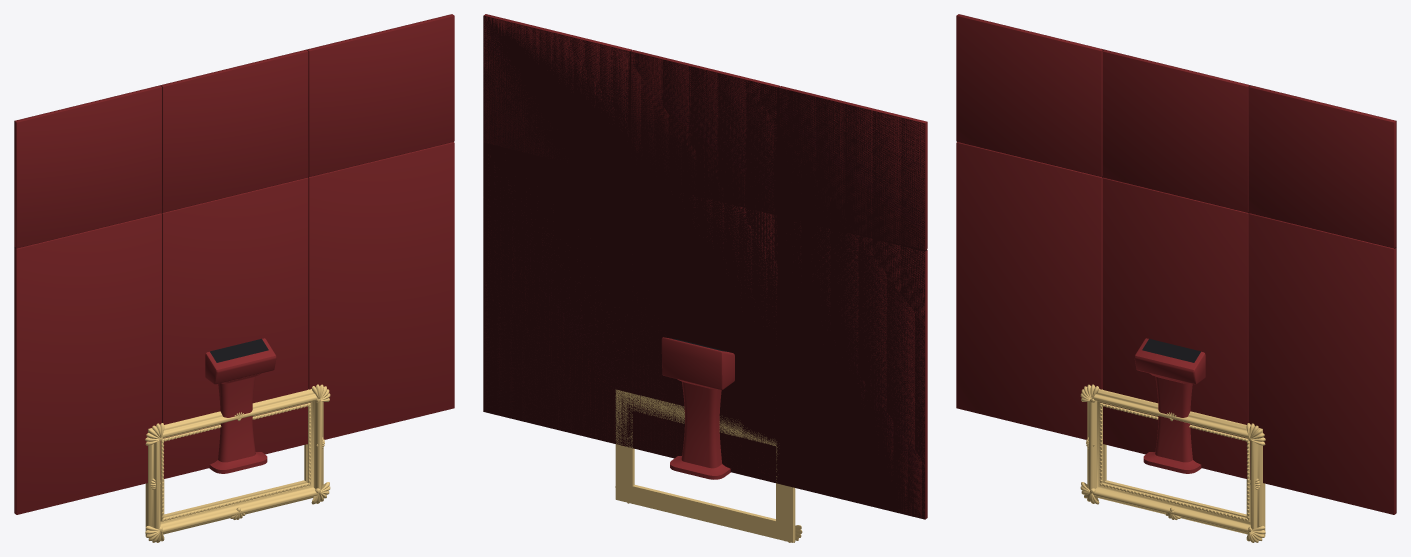
File: vitrines.glb
The picture shows the model from 3 angles, left to right: view 1: azimuth 30°, elevation 25°; view 2: azimuth 150°, elevation 25°; view 3: azimuth 330°, elevation 25°; orthographic projection.
Visible parts, largest first — view 1: Panneau, Cadre, Borne; view 2: Panneau, Cadre, Borne; view 3: Panneau, Cadre, Borne.
Part boxes in pixels (bbox=[...]): Panneau: bbox=[14, 14, 454, 514]; Cadre: bbox=[145, 384, 330, 542]; Borne: bbox=[205, 338, 276, 473]; Panneau: bbox=[483, 14, 927, 519]; Cadre: bbox=[615, 389, 802, 542]; Borne: bbox=[661, 337, 734, 479]; Panneau: bbox=[956, 14, 1396, 514]; Cadre: bbox=[1080, 384, 1265, 542]; Borne: bbox=[1134, 338, 1205, 473].
Size of the model in its own units: 4.19 by 4.14 by 0.4364.
